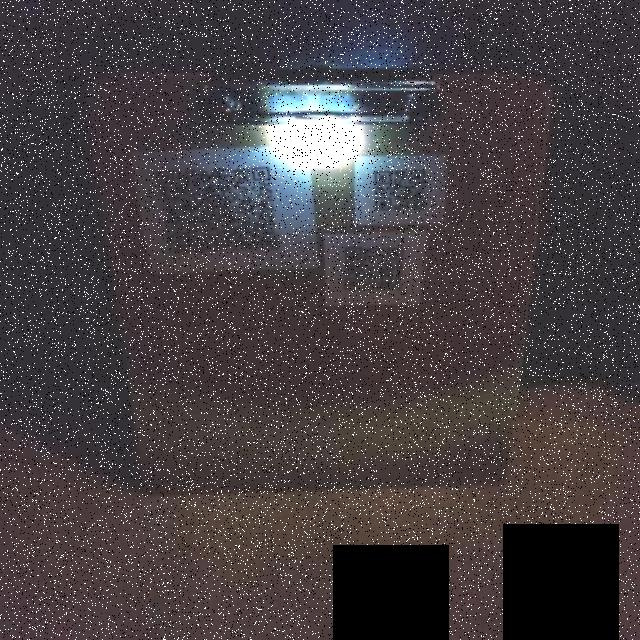QR_CODE: (147, 155, 285, 265), (328, 238, 418, 302), (365, 158, 440, 218)
